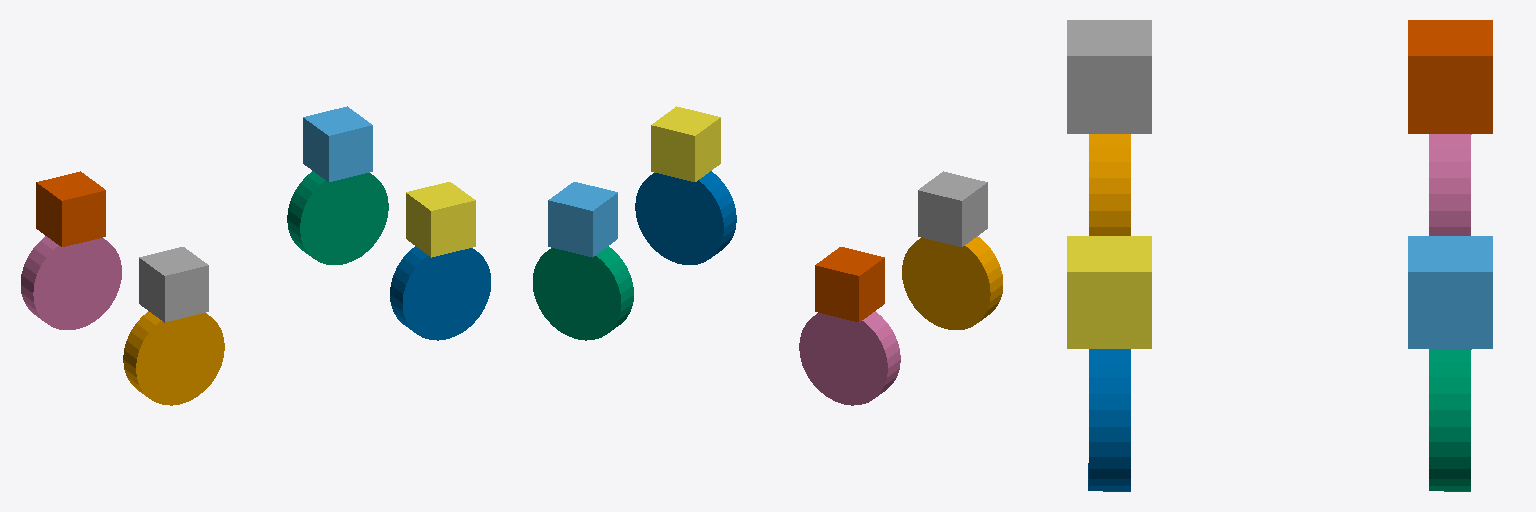
robot.urdf — torso:
<?xml version="1.0"?>
<robot name="torso"
	xmlns:sensor="http://playerstage.sourceforge.net/gazebo/xmlschema/#sensor"
	xmlns:controller="http://playerstage.sourceforge.net/gazebo/xmlschema/#controller"
	xmlns:interface="http://playerstage.sourceforge.net/gazebo/xmlschema/#interface">

	<!-- ################################################################################# -->
	<!-- add links-->
	
	<!-- platform -->
	<link name="link_platform">
		<inertial>
			<origin xyz="0 0 0" rpy="0 0 0"/>
			<mass value="50"/>
			<inertia ixx="1"  ixy="0"  ixz="0" iyy="1" iyz="0" izz="1" />
		</inertial>
		<visual>
			<origin xyz="0 0 0.05" rpy="0 0 0" />
			<geometry>
<!--		        <box size="0.6 0.4 0.3"/> -->
				<mesh filename="package://cob_defs/common/files/meshes/platform.stl" />
			</geometry>
		</visual>
		<collision>
			<origin xyz="0 0 0.05" rpy="0 0 0" />
			<geometry>
<!--		        <box size="0.6 0.4 0.3"/> -->
				<mesh filename="package://cob_defs/common/files/meshes/platform.stl" />
			</geometry>
		</collision>
	</link>

	<!-- wheel front left -->
	<link name="link_steerFL">
		<inertial>
			<origin xyz="0 0 0" rpy="0 0 0"/>
			<mass value="3"/>
			<inertia ixx="1"  ixy="0"  ixz="0" iyy="1" iyz="0" izz="1" />
		</inertial>
		<visual>
			<origin xyz="0 0 -0.05" rpy="0 0 0" />
			<geometry>
		        <box size="0.1 0.1 0.1"/>
			</geometry>
		</visual>
		<collision>
			<origin xyz="0 0 -0.05" rpy="0 0 0" />
			<geometry>
		        <box size="0.1 0.1 0.1"/>
			</geometry>
		</collision>
	</link>

	<link name="link_wheelFL">
		<inertial>
			<origin xyz="0 0 0" rpy="0 0 0"/>
			<mass value="1"/>
			<inertia ixx="1"  ixy="0"  ixz="0" iyy="1" iyz="0" izz="1" />
		</inertial>
		<visual>
			<origin xyz="0 0 0.0025" rpy="1.57 0 0" />
			<geometry>
					<cylinder radius="0.1" length="0.05"/>
			</geometry>
		</visual>
		<collision>
			<origin xyz="0 0 0.0025" rpy="1.57 0 0" />
			<geometry>
		        <cylinder radius="0.1" length="0.05"/>
			</geometry>
		</collision>
	</link>
	
	<!-- wheel front right -->
	<link name="link_steerFR">
		<inertial>
			<origin xyz="0 0 0" rpy="0 0 0"/>
			<mass value="3"/>
			<inertia ixx="1"  ixy="0"  ixz="0" iyy="1" iyz="0" izz="1" />
		</inertial>
		<visual>
			<origin xyz="0 0 -0.05" rpy="0 0 0" />
			<geometry>
		        <box size="0.1 0.1 0.1"/>
			</geometry>
		</visual>
		<collision>
			<origin xyz="0 0 -0.05" rpy="0 0 0" />
			<geometry>
		        <box size="0.1 0.1 0.1"/>
			</geometry>
		</collision>
	</link>

	<link name="link_wheelFR">
		<inertial>
			<origin xyz="0 0 0" rpy="0 0 0"/>
			<mass value="1"/>
			<inertia ixx="1"  ixy="0"  ixz="0" iyy="1" iyz="0" izz="1" />
		</inertial>
		<visual>
			<origin xyz="0 0 0.0025" rpy="1.57 0 0" />
			<geometry>
					<cylinder radius="0.1" length="0.05"/>
			</geometry>
		</visual>
		<collision>
			<origin xyz="0 0 0.0025" rpy="1.57 0 0" />
			<geometry>
		        <cylinder radius="0.1" length="0.05"/>
			</geometry>
		</collision>
	</link>	

	<!-- wheel rear left -->
	<link name="link_steerRL">
		<inertial>
			<origin xyz="0 0 0" rpy="0 0 0"/>
			<mass value="3"/>
			<inertia ixx="1"  ixy="0"  ixz="0" iyy="1" iyz="0" izz="1" />
		</inertial>
		<visual>
			<origin xyz="0 0 -0.05" rpy="0 0 0" />
			<geometry>
		        <box size="0.1 0.1 0.1"/>
			</geometry>
		</visual>
		<collision>
			<origin xyz="0 0 -0.05" rpy="0 0 0" />
			<geometry>
		        <box size="0.1 0.1 0.1"/>
			</geometry>
		</collision>
	</link>

	<link name="link_wheelRL">
		<inertial>
			<origin xyz="0 0 0" rpy="0 0 0"/>
			<mass value="1"/>
			<inertia ixx="1"  ixy="0"  ixz="0" iyy="1" iyz="0" izz="1" />
		</inertial>
		<visual>
			<origin xyz="0 0 0.0025" rpy="1.57 0 0" />
			<geometry>
					<cylinder radius="0.1" length="0.05"/>
			</geometry>
		</visual>
		<collision>
			<origin xyz="0 0 0.0025" rpy="1.57 0 0" />
			<geometry>
		        <cylinder radius="0.1" length="0.05"/>
			</geometry>
		</collision>
	</link>
	
	<!-- wheel rear right -->
	<link name="link_steerRR">
		<inertial>
			<origin xyz="0 0 0" rpy="0 0 0"/>
			<mass value="3"/>
			<inertia ixx="1"  ixy="0"  ixz="0" iyy="1" iyz="0" izz="1" />
		</inertial>
		<visual>
			<origin xyz="0 0 -0.05" rpy="0 0 0" />
			<geometry>
		        <box size="0.1 0.1 0.1"/>
			</geometry>
		</visual>
		<collision>
			<origin xyz="0 0 -0.05" rpy="0 0 0" />
			<geometry>
		        <box size="0.1 0.1 0.1"/>
			</geometry>
		</collision>
	</link>

	<link name="link_wheelRR">
		<inertial>
			<origin xyz="0 0 0" rpy="0 0 0"/>
			<mass value="1"/>
			<inertia ixx="1"  ixy="0"  ixz="0" iyy="1" iyz="0" izz="1" />
		</inertial>
		<visual>
			<origin xyz="0 0 0.0025" rpy="1.57 0 0" />
			<geometry>
					<cylinder radius="0.1" length="0.05"/>
			</geometry>
		</visual>
		<collision>
			<origin xyz="0 0 0.0025" rpy="1.57 0 0" />
			<geometry>
		        <cylinder radius="0.1" length="0.05"/>
			</geometry>
		</collision>
	</link>

	<!-- define colors for links -->
	<gazebo reference="link_platform">
		<material>Gazebo/Grey</material>
		<turnGravityOff>false</turnGravityOff>
	</gazebo>

	<gazebo reference="link_steerFL">
		<material>Gazebo/Black</material>
		<turnGravityOff>false</turnGravityOff>
	</gazebo>

	<gazebo reference="link_wheelFL">
		<material>Gazebo/Red</material>
		<turnGravityOff>false</turnGravityOff>
	</gazebo>
	
	<gazebo reference="link_steerFR">
		<material>Gazebo/Black</material>
		<turnGravityOff>false</turnGravityOff>
	</gazebo>

	<gazebo reference="link_wheelFR">
		<material>Gazebo/Red</material>
		<turnGravityOff>false</turnGravityOff>
	</gazebo>
	
	<gazebo reference="link_steerRL">
		<material>Gazebo/Black</material>
		<turnGravityOff>false</turnGravityOff>
	</gazebo>

	<gazebo reference="link_wheelRL">
		<material>Gazebo/Red</material>
		<turnGravityOff>false</turnGravityOff>
	</gazebo>
	
	<gazebo reference="link_steerRR">
		<material>Gazebo/Black</material>
		<turnGravityOff>false</turnGravityOff>
	</gazebo>

	<gazebo reference="link_wheelRR">
		<material>Gazebo/Red</material>
		<turnGravityOff>false</turnGravityOff>
	</gazebo>

	<!-- ################################################################################# -->
	<!-- add joints -->
	
	<!-- wheel front left -->
	<joint name="joint_platform_steerFL" type="continuous">
		<origin xyz="0.3 0.2 0" rpy="0 0 0" />
		<parent link="link_platform"/>
		<child link="link_steerFL"/>
		<axis xyz="0 0 1" />
	    <calibration reference_position="0.0"/>
		<limit effort="100" lower="-1" upper="1" velocity="5"/>
	</joint>
	
	<joint name="joint_steerFL_wheelFL" type="continuous">
		<origin xyz="0 0 -0.2" rpy="0 0 0" />
		<parent link="link_steerFL"/>
		<child link="link_wheelFL"/>
		<axis xyz="0 1 0" />
	    <calibration reference_position="0.0"/>
		<limit effort="100" lower="-1" upper="1" velocity="5"/>
	</joint>

	<!-- wheel front right -->
	<joint name="joint_platform_steerFR" type="continuous">
		<origin xyz="0.3 -0.2 0" rpy="0 0 0" />
		<parent link="link_platform"/>
		<child link="link_steerFR"/>
		<axis xyz="0 0 1" />
	    <calibration reference_position="0.0"/>
		<limit effort="100" lower="-1" upper="1" velocity="5"/>
	</joint>
	
	<joint name="joint_steerFR_wheelFR" type="continuous">
		<origin xyz="0 0 -0.2" rpy="0 0 0" />
		<parent link="link_steerFR"/>
		<child link="link_wheelFR"/>
		<axis xyz="0 1 0" />
	    <calibration reference_position="0.0"/>
		<limit effort="100" lower="-1" upper="1" velocity="5"/>
	</joint>
	
	<!-- wheel rear left -->
	<joint name="joint_platform_steerRL" type="continuous">
		<origin xyz="-0.3 0.2 0" rpy="0 0 0" />
		<parent link="link_platform"/>
		<child link="link_steerRL"/>
		<axis xyz="0 0 1" />
	    <calibration reference_position="0.0"/>
		<limit effort="100" lower="-1" upper="1" velocity="5"/>
	</joint>
	
	<joint name="joint_steerRL_wheelRL" type="continuous">
		<origin xyz="0 0 -0.2" rpy="0 0 0" />
		<parent link="link_steerRL"/>
		<child link="link_wheelRL"/>
		<axis xyz="0 1 0" />
	    <calibration reference_position="0.0"/>
		<limit effort="100" lower="-1" upper="1" velocity="5"/>
	</joint>

	<!-- wheel rear right -->
	<joint name="joint_platform_steerRR" type="continuous">
		<origin xyz="-0.3 -0.2 0" rpy="0 0 0" />
		<parent link="link_platform"/>
		<child link="link_steerRR"/>
		<axis xyz="0 0 1" />
	    <calibration reference_position="0.0"/>
		<limit effort="100" lower="-1" upper="1" velocity="5"/>
	</joint>
	
	<joint name="joint_steerRR_wheelRR" type="continuous">
		<origin xyz="0 0 -0.2" rpy="0 0 0" />
		<parent link="link_steerRR"/>
		<child link="link_wheelRR"/>
		<axis xyz="0 1 0" />
	    <calibration reference_position="0.0"/>
		<limit effort="100" lower="-1" upper="1" velocity="5"/>
	</joint>

	<!-- ################################################################################# -->
	<!-- add transmissions -->
	
	<!-- wheel front left -->
	<transmission name="trans_platform_steerFL" type="SimpleTransmission">
		<actuator name="motor_platform_steerFL"/>
		<joint name="joint_platform_steerFL"/>
		<mechanicalReduction>1</mechanicalReduction>
	</transmission>

	<transmission name="trans_steerFL_wheelFL" type="SimpleTransmission">
		<actuator name="motor_steerFL_wheelFL"/>
		<joint name="joint_steerFL_wheelFL"/>
		<mechanicalReduction>1</mechanicalReduction>
	</transmission>
	
	<!-- wheel front right -->
	<transmission name="trans_platform_steerFR" type="SimpleTransmission">
		<actuator name="motor_platform_steerFR"/>
		<joint name="joint_platform_steerFR"/>
		<mechanicalReduction>1</mechanicalReduction>
	</transmission>

	<transmission name="trans_steerFR_wheelFR" type="SimpleTransmission">
		<actuator name="motor_steerFR_wheelFR"/>
		<joint name="joint_steerFR_wheelFR"/>
		<mechanicalReduction>1</mechanicalReduction>
	</transmission>
	
	<!-- wheel rear left -->
	<transmission name="trans_platform_steerRL" type="SimpleTransmission">
		<actuator name="motor_platform_steerRL"/>
		<joint name="joint_platform_steerRL"/>
		<mechanicalReduction>1</mechanicalReduction>
	</transmission>

	<transmission name="trans_steerRL_wheelRL" type="SimpleTransmission">
		<actuator name="motor_steerRL_wheelRL"/>
		<joint name="joint_steerRL_wheelRL"/>
		<mechanicalReduction>1</mechanicalReduction>
	</transmission>
	
	<!-- wheel rear right -->
	<transmission name="trans_platform_steerRR" type="SimpleTransmission">
		<actuator name="motor_platform_steerRR"/>
		<joint name="joint_platform_steerRR"/>
		<mechanicalReduction>1</mechanicalReduction>
	</transmission>

	<transmission name="trans_steerRR_wheelRR" type="SimpleTransmission">
		<actuator name="motor_steerRR_wheelRR"/>
		<joint name="joint_steerRR_wheelRR"/>
		<mechanicalReduction>1</mechanicalReduction>
	</transmission>

</robot>

--- What the picture shows (computed from the rendered views, not written in the file) ---
Views: 3 orthographic renders of the robot side by side, from view 1: azimuth 30°, elevation 25°; view 2: azimuth 150°, elevation 25°; view 3: azimuth 270°, elevation 25°.
Model torso with 9 links and 8 joints (8 continuous), rooted at link_platform, posed every joint at zero.
Visible links, largest first — view 1: link_wheelFR, link_wheelFL, link_wheelRR, link_wheelRL, link_steerRL, link_steerRR, link_steerFL, link_steerFR; view 2: link_wheelFL, link_wheelFR, link_wheelRL, link_wheelRR, link_steerRL, link_steerFL, link_steerFR, link_steerRR; view 3: link_steerRL, link_steerRR, link_steerFL, link_steerFR, link_wheelFR, link_wheelFL, link_wheelRL, link_wheelRR.
Link boxes in pixels (x1=…): link_wheelFR: x1=390, y1=246, x2=490, y2=340; link_wheelFL: x1=287, y1=171, x2=388, y2=264; link_wheelRR: x1=123, y1=311, x2=224, y2=405; link_wheelRL: x1=21, y1=236, x2=121, y2=329; link_steerRL: x1=36, y1=171, x2=105, y2=246; link_steerRR: x1=139, y1=247, x2=208, y2=322; link_steerFL: x1=303, y1=106, x2=372, y2=181; link_steerFR: x1=406, y1=182, x2=475, y2=257; link_wheelFL: x1=533, y1=246, x2=633, y2=340; link_wheelFR: x1=635, y1=171, x2=736, y2=264; link_wheelRL: x1=799, y1=311, x2=900, y2=405; link_wheelRR: x1=902, y1=236, x2=1002, y2=329; link_steerRL: x1=815, y1=247, x2=884, y2=322; link_steerFL: x1=548, y1=182, x2=617, y2=257; link_steerFR: x1=651, y1=106, x2=720, y2=181; link_steerRR: x1=918, y1=171, x2=987, y2=246; link_steerRL: x1=1408, y1=20, x2=1492, y2=133; link_steerRR: x1=1067, y1=20, x2=1151, y2=133; link_steerFL: x1=1408, y1=236, x2=1492, y2=348; link_steerFR: x1=1067, y1=236, x2=1151, y2=348; link_wheelFR: x1=1088, y1=349, x2=1130, y2=491; link_wheelFL: x1=1429, y1=349, x2=1471, y2=491; link_wheelRL: x1=1429, y1=134, x2=1471, y2=235; link_wheelRR: x1=1089, y1=134, x2=1130, y2=235.
Size in the robot's own frame: 0.8 by 0.5 by 0.2975 metres.
Meshes: 1 distinct files referenced, 0 mesh visuals loaded (none loaded); not drawn: 1 (reference not matched to a file when rendering).